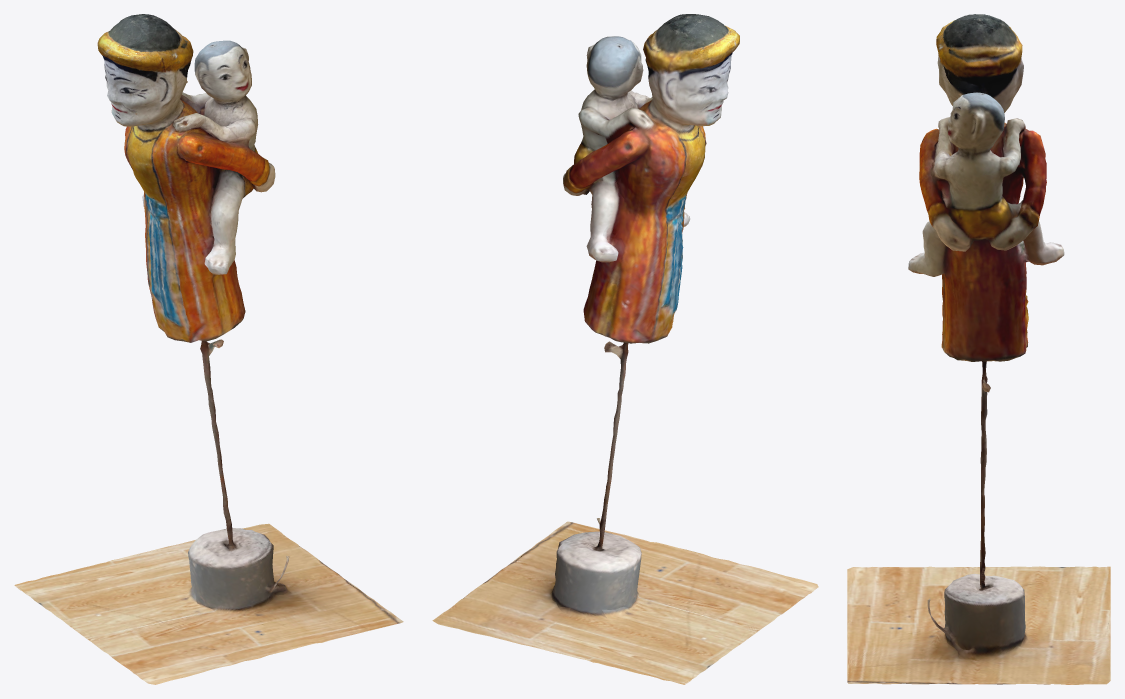
The model's file is mother_carrying_child.glb.
The picture shows the model from 3 angles, left to right: view 1: azimuth 30°, elevation 25°; view 2: azimuth 150°, elevation 25°; view 3: azimuth 270°, elevation 25°; orthographic projection. The views are drawn at different scales.
Visible parts, largest first — view 1: Object_4; view 2: Object_4; view 3: Object_4.
Part boxes in pixels (x1=…): Object_4: x1=14, y1=14, x2=403, y2=684; Object_4: x1=432, y1=14, x2=818, y2=684; Object_4: x1=847, y1=14, x2=1110, y2=684.
Size of the model in its own units: 0.3985 by 0.9052 by 0.3732.
Materials: 1 (1 with a texture image).
